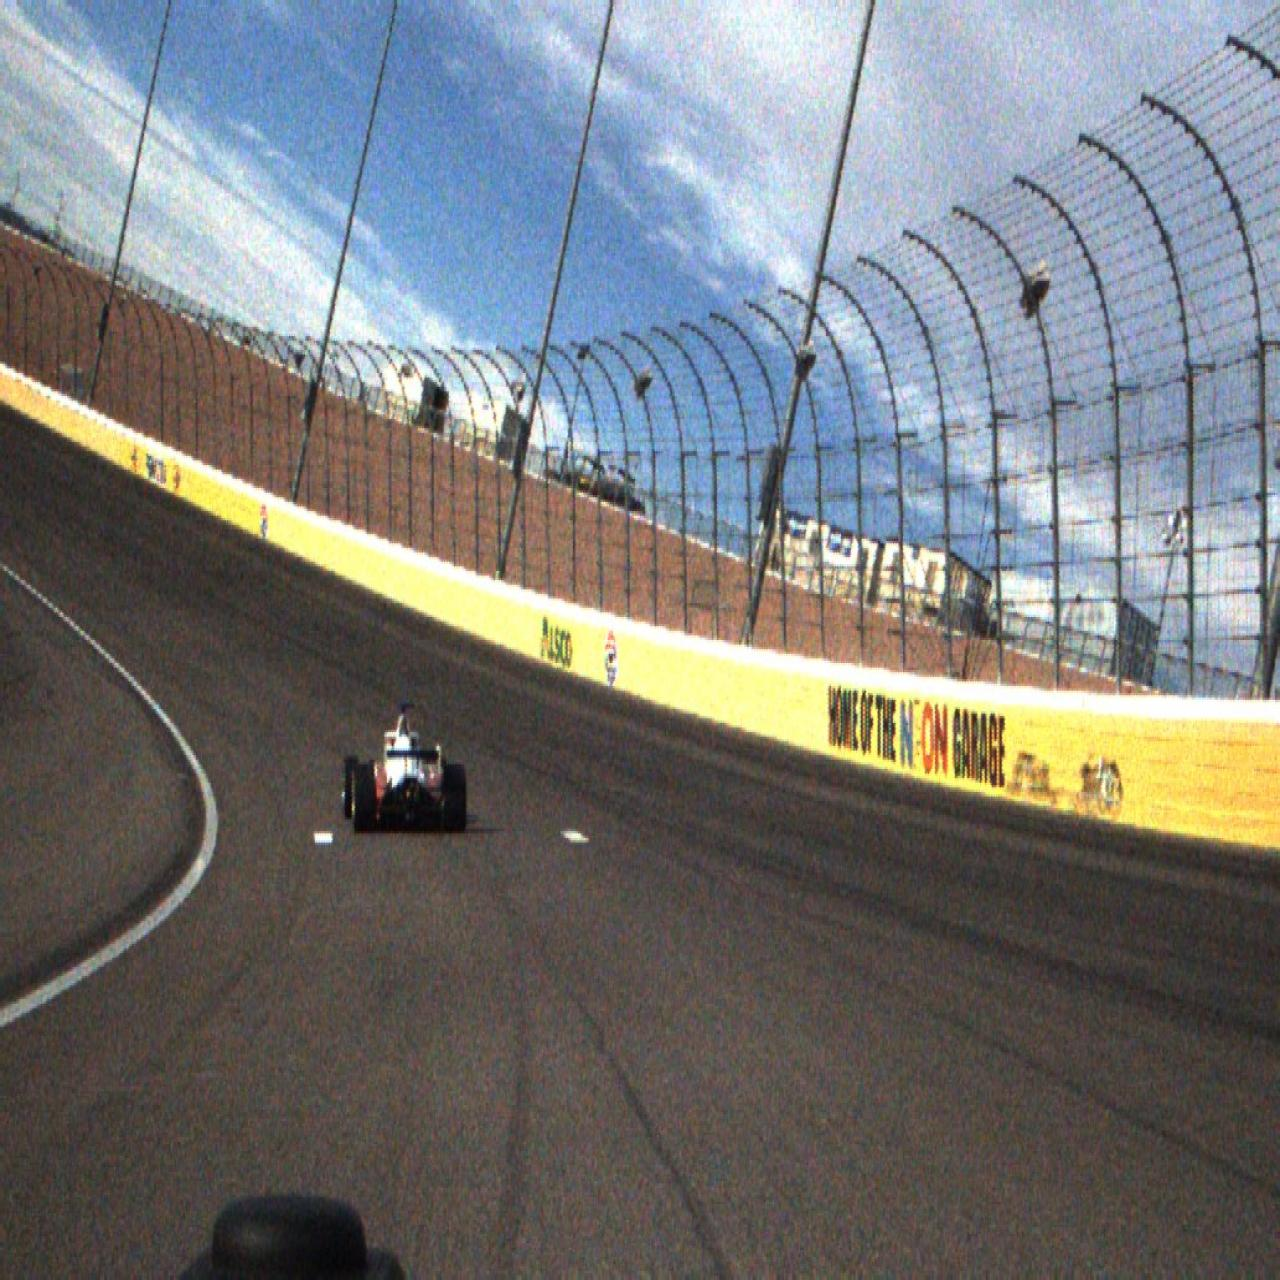AV: (342, 702, 467, 833)
Wheel: (353, 763, 376, 833), (444, 763, 465, 833), (343, 755, 360, 819)
